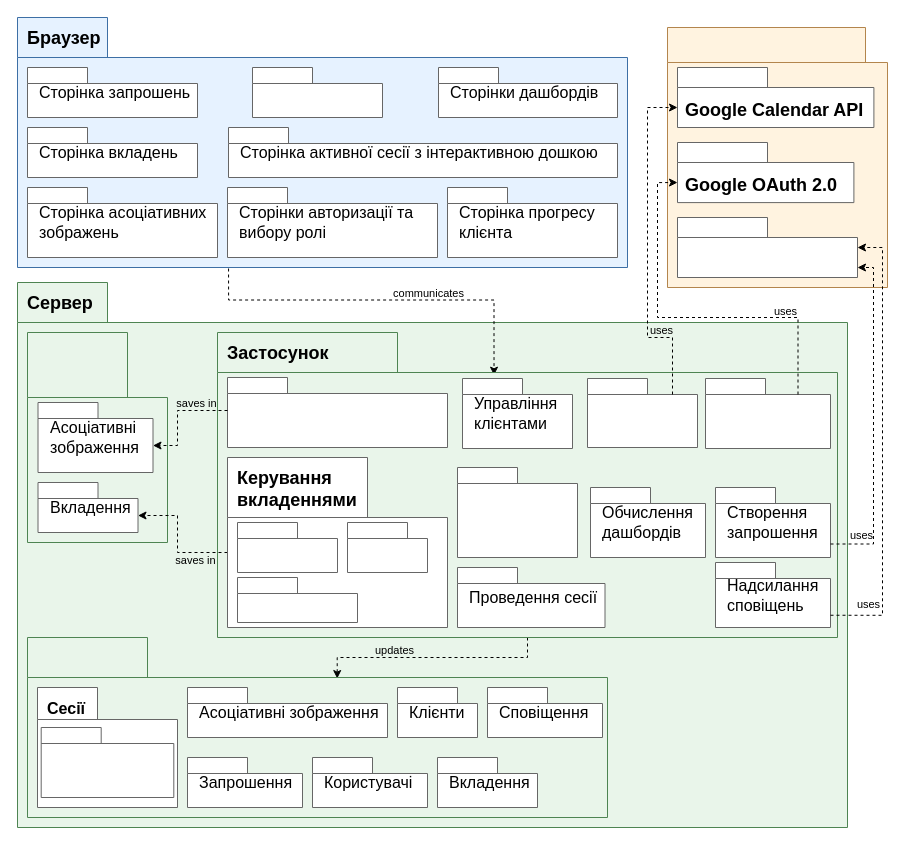
Some shapes in this 908 by 845 pixel diagram are drawn without their labels. The shapes that lost their labels are listed below. From the top down, each one's box as (x1, y1, x2, y2) in pixels, then its label:
(252, 66, 382, 118): Сторінка сесій
(666, 26, 888, 288): Зовнішні сервіси
(676, 216, 858, 278): Поштовий сервіс
(226, 376, 448, 448): Керування асоціативними зображеннями
(586, 378, 698, 448): Планування сесій
(704, 378, 830, 448): Реєстрація користувачів
(26, 332, 168, 542): Файлове сховище
(456, 466, 578, 558): Відстеження прогресу клієнтів
(236, 522, 338, 572): Враження
(346, 522, 428, 572): Нотатки
(236, 576, 358, 622): Рекомендації
(26, 636, 608, 818): База даних
(40, 726, 174, 798): Інтерактивна дошка
